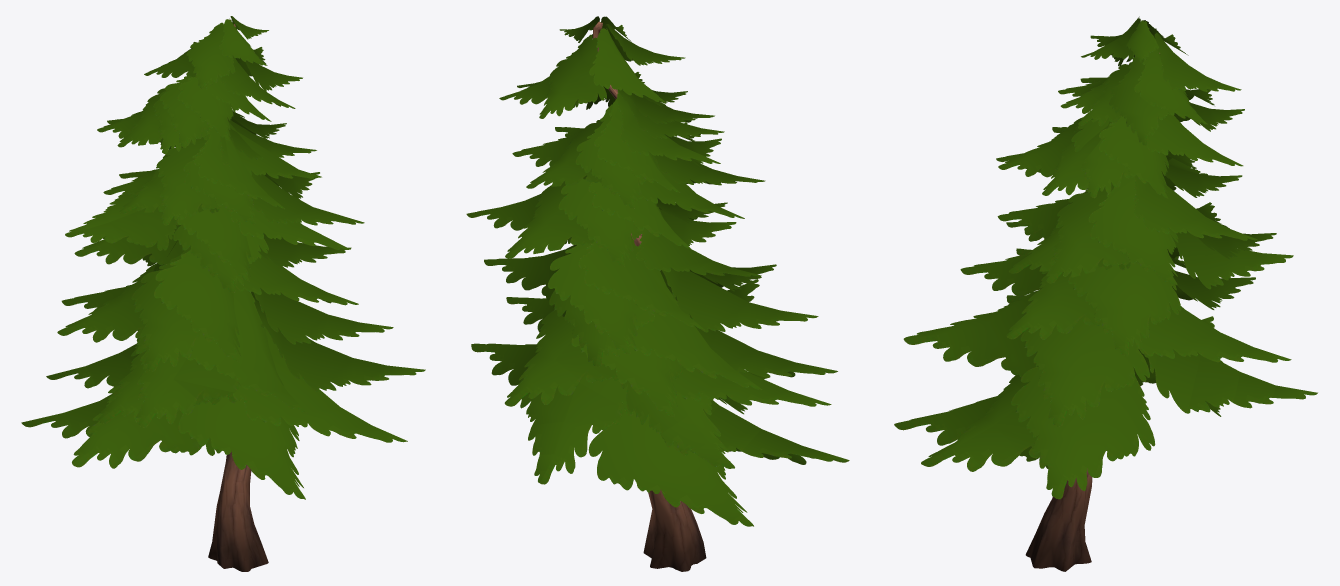
The model's file is pine_a.glb.
3 views of the same model, side by side, from view 1: azimuth 30°, elevation 25°; view 2: azimuth 150°, elevation 25°; view 3: azimuth 270°, elevation 25° (orthographic). The views are drawn at different scales.
Visible parts, largest first — view 1: Pine_5; view 2: Pine_5; view 3: Pine_5.
Part boxes in pixels (x1=…): Pine_5: x1=21, y1=16, x2=425, y2=571; Pine_5: x1=466, y1=16, x2=849, y2=571; Pine_5: x1=894, y1=16, x2=1317, y2=571.
Size of the model in its own units: 6.42 by 8.72 by 6.22.
Materials: 2 (2 with a texture image).
